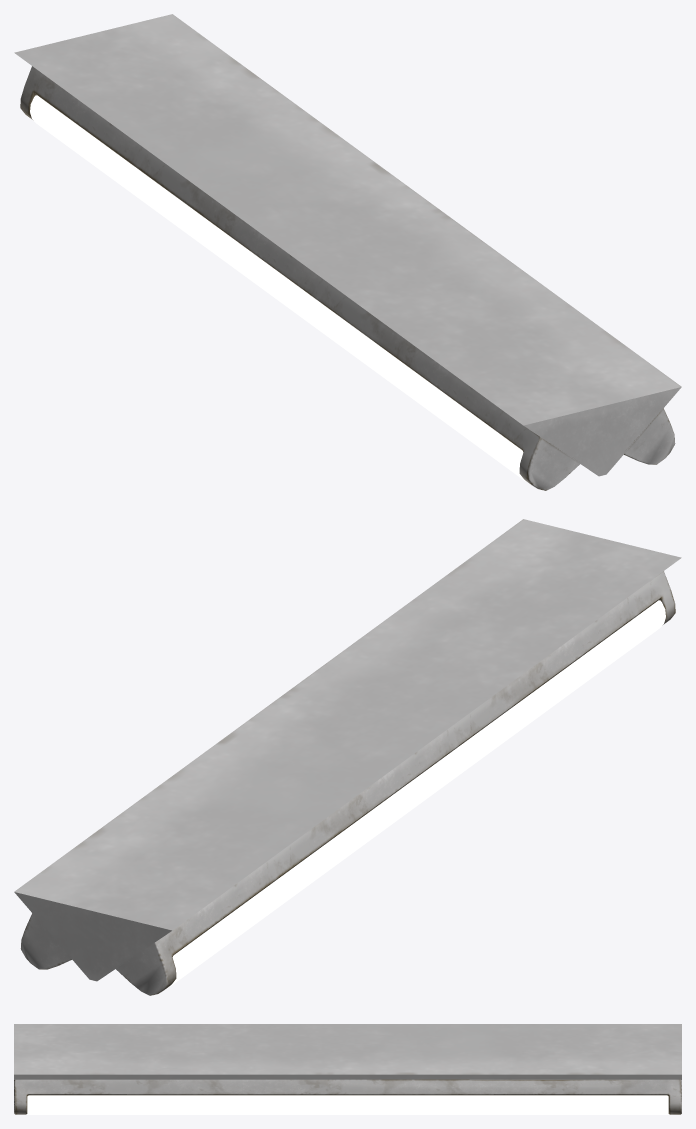
Rendered from SM_CeilingLight_02.fbx.
3 views of the same model, one above another, from view 1: azimuth 30°, elevation 25°; view 2: azimuth 150°, elevation 25°; view 3: azimuth 270°, elevation 25° (orthographic). The views are drawn at different scales.
Visible parts, largest first — view 1: SM_CeilingLight_02_LOD0; view 2: SM_CeilingLight_02_LOD0; view 3: SM_CeilingLight_02_LOD0.
Part boxes in pixels (x1,y1,x2,y2): SM_CeilingLight_02_LOD0: [14, 14, 681, 490]; SM_CeilingLight_02_LOD0: [14, 519, 681, 995]; SM_CeilingLight_02_LOD0: [14, 1024, 681, 1114].
Size of the model in its own units: 17.98 by 100 by 7.86.
